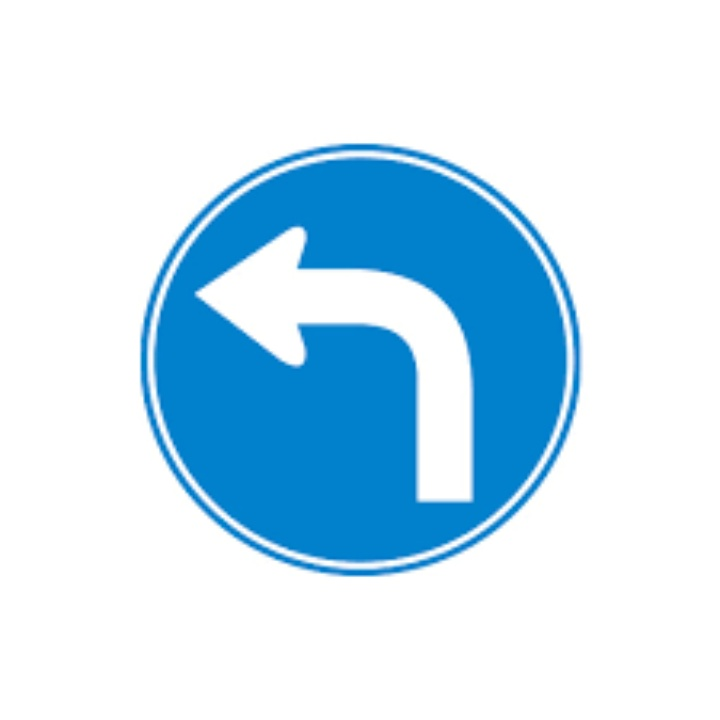left: (184, 213, 485, 509)
